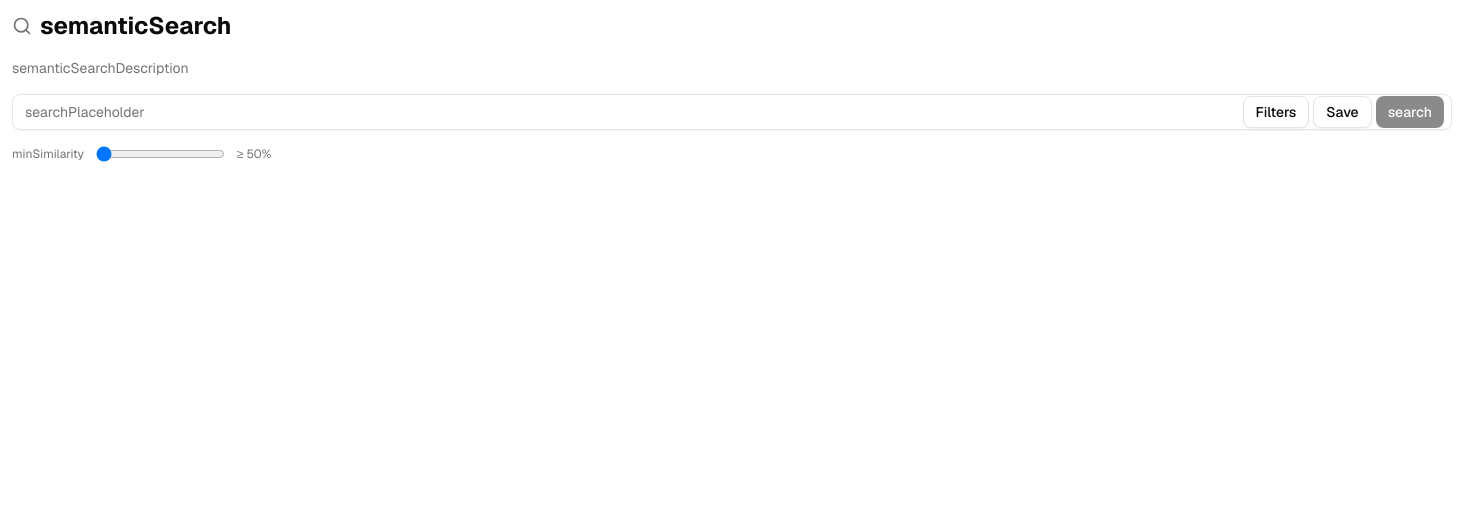
Test: SearchBar › Empty Results › displays no results message
Type "nonexistent query" into the field with placeholder "searchPlaceholder".
click(732, 112); type("nonexistent query")  # box [12,94,1452,130]
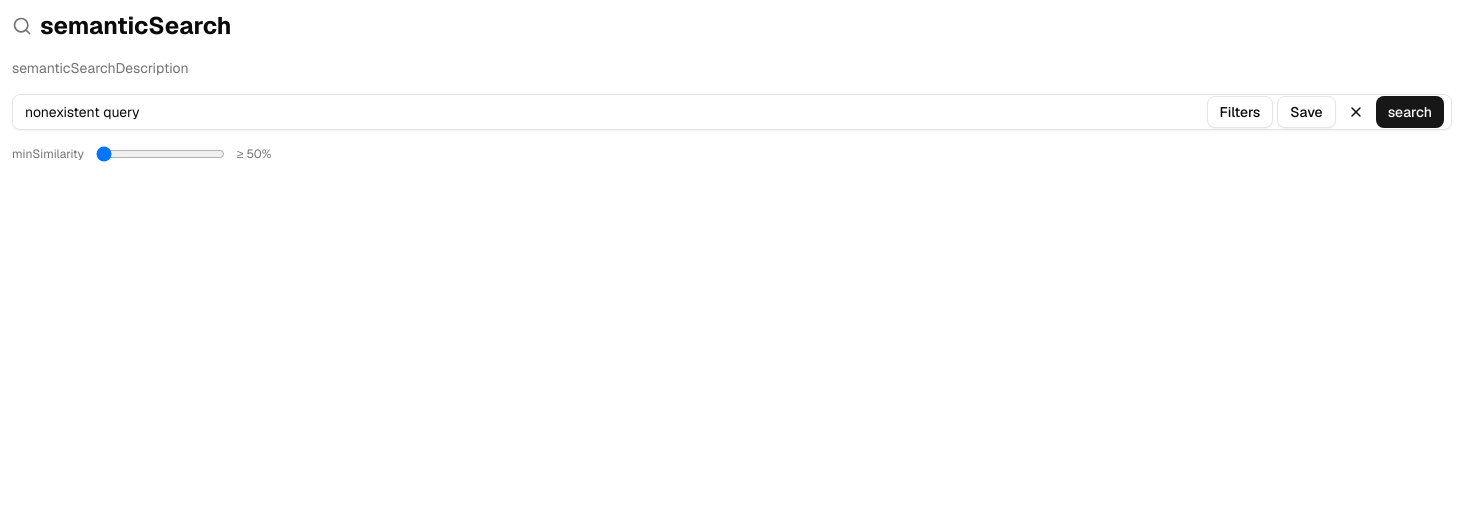
Submit the form with placeholder "searchPlaceholder", box [12,94,1452,130]
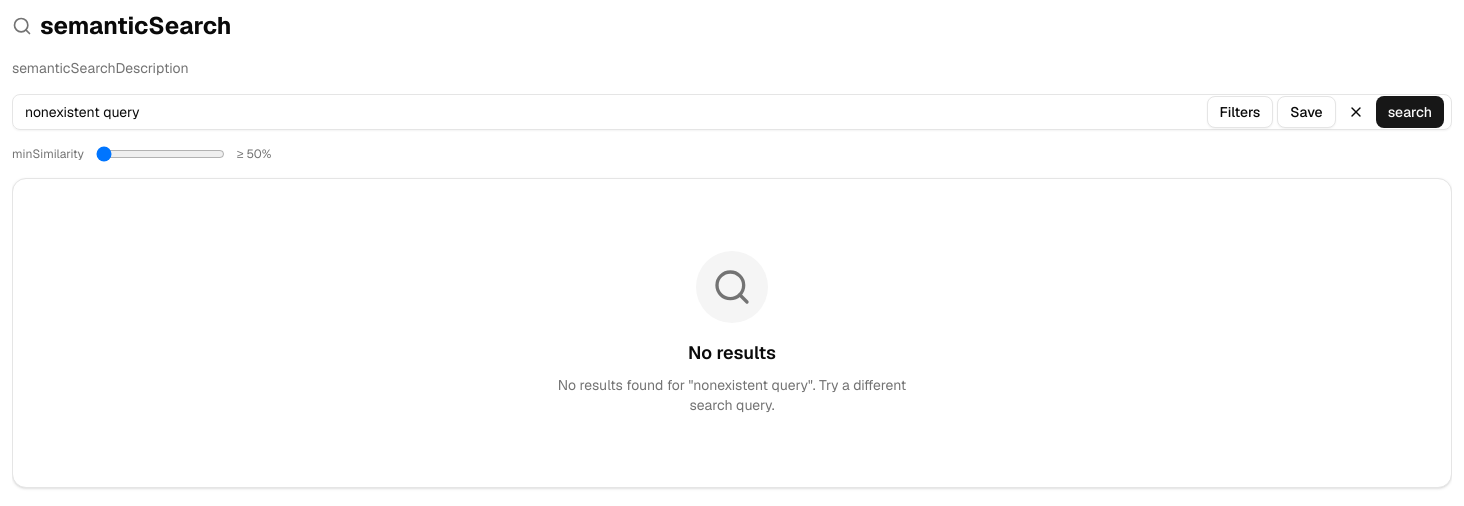
Now the text "Try a different search query" is shown, box [558,376,906,414]
